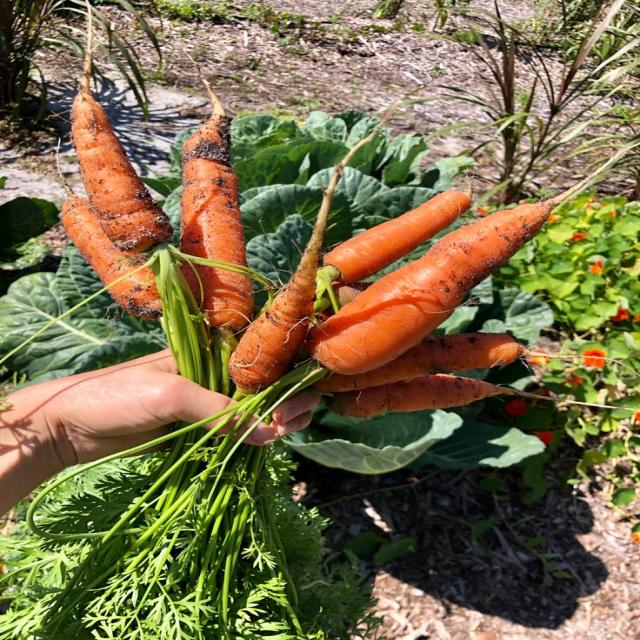carrot: (229, 107, 395, 391), (309, 195, 564, 374), (72, 38, 173, 253), (229, 215, 326, 391), (323, 190, 470, 283), (314, 333, 529, 392), (327, 374, 619, 417), (62, 194, 161, 320), (180, 90, 246, 266), (327, 374, 505, 417)
